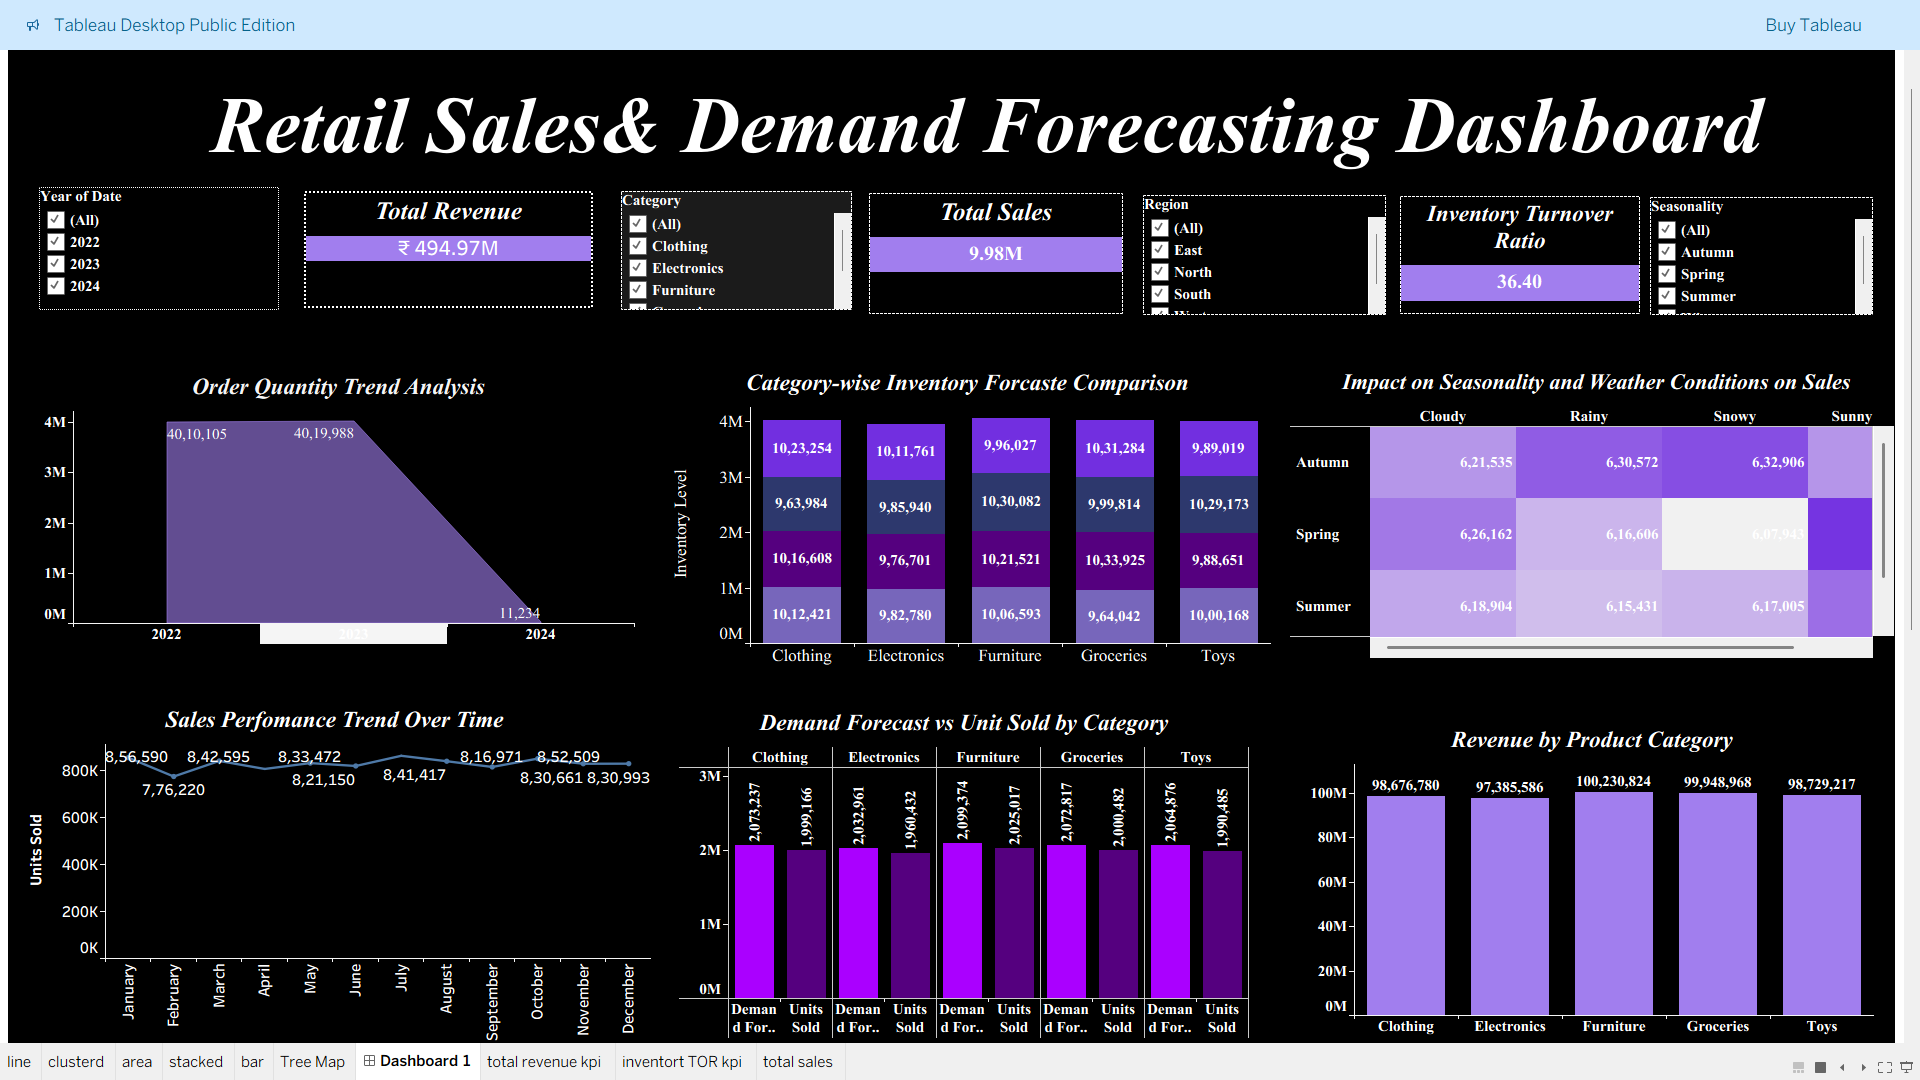

The dashboard page shown, as its layout file describes it:
{"tool":"tableau","page":{"name":"Dashboard 1","canvas":[1000,1000],"units":"permille","ordinal":0},"visuals":[{"type":"text","box":[67.3,31.2,904.4,68.8]},{"type":"filter","title":"area","param":"[federated.1tkqpz91jdmbdv125qz9h19n6apy].[yr:Date:ok]","box":[20.3,100.6,126.1,69.9]},{"type":"worksheet","title":"total revenue kpi","mark":"Automatic","box":[159.7,102.8,151.7,66.5]},{"type":"filter","title":"stacked","param":"[federated.1tkqpz91jdmbdv125qz9h19n6apy].[none:Category:nk]","box":[326.4,102.8,121.3,67.6]},{"type":"worksheet","title":"total sales","mark":"Automatic","box":[456.7,104,133.6,68.8]},{"type":"filter","title":"stacked","param":"[federated.1tkqpz91jdmbdv125qz9h19n6apy].[none:Region:nk]","box":[600.4,105.1,127.7,68.2]},{"type":"worksheet","title":"inventort TOR kpi","mark":"Automatic","box":[735.6,105.7,126.1,67]},{"type":"filter","title":"Tree Map","param":"[federated.1tkqpz91jdmbdv125qz9h19n6apy].[none:Seasonality:nk]","box":[867,106.2,117,67]},{"type":"worksheet","title":"Tree Map","mark":"Square","rows":["Seasonality"],"cols":["Weather Condition"],"box":[677.9,200.6,317.3,167.6]},{"type":"worksheet","title":"stacked","mark":"Automatic","rows":["Inventory Level"],"cols":["Category"],"box":[348.8,202.3,318.9,170.5]},{"type":"worksheet","title":"area","mark":"Area","rows":["Units Ordered"],"cols":["Date"],"box":[22.4,204.6,312.4,176.1]},{"type":"worksheet","title":"line","mark":"Automatic","rows":["Units Sold"],"cols":["Date"],"box":[9.6,393.8,332.8,201.7]},{"type":"worksheet","title":"clusterd","mark":"Automatic","cols":["Category"],"box":[356.8,395.4,333.3,189.2]},{"type":"worksheet","title":"bar","mark":"Automatic","rows":["Calculation_1781455165342339072"],"cols":["Category"],"box":[688.6,405.1,296.5,177.8]}]}

Visuals, with their boxes on the dashboard's canvas, which has no fixed pixel size, in thousandths of its width and height (x1, y1, x2, y2). These are canvas units, not pixel positions in the 1920x1080 screenshot, which may show the page scaled, cropped or inside an application window:
text: 67, 31, 972, 100
"area" filter: 20, 101, 146, 170
"total revenue kpi" worksheet: 160, 103, 311, 169
"stacked" filter: 326, 103, 448, 170
"total sales" worksheet: 457, 104, 590, 173
"stacked" filter: 600, 105, 728, 173
"inventort TOR kpi" worksheet: 736, 106, 862, 173
"Tree Map" filter: 867, 106, 984, 173
"Tree Map" worksheet (Square marks): 678, 201, 995, 368
"stacked" worksheet: 349, 202, 668, 373
"area" worksheet (Area marks): 22, 205, 335, 381
"line" worksheet: 10, 394, 342, 596
"clusterd" worksheet: 357, 395, 690, 585
"bar" worksheet: 689, 405, 985, 583
